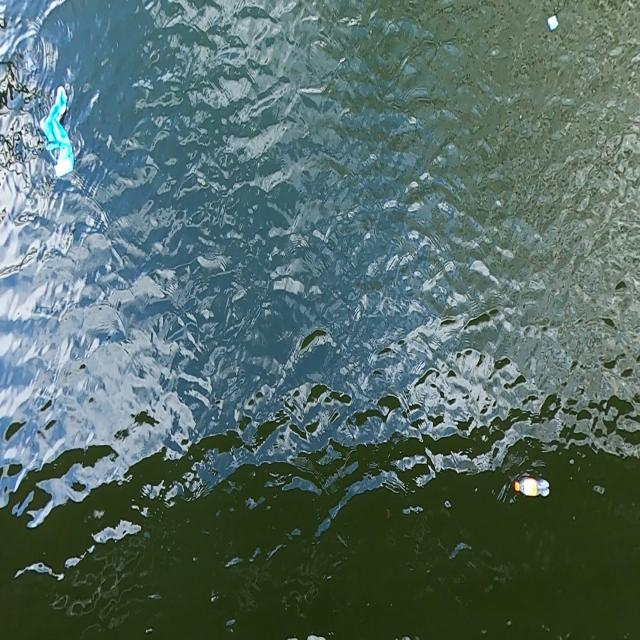Bouteille plastique: (510, 473, 556, 503)
